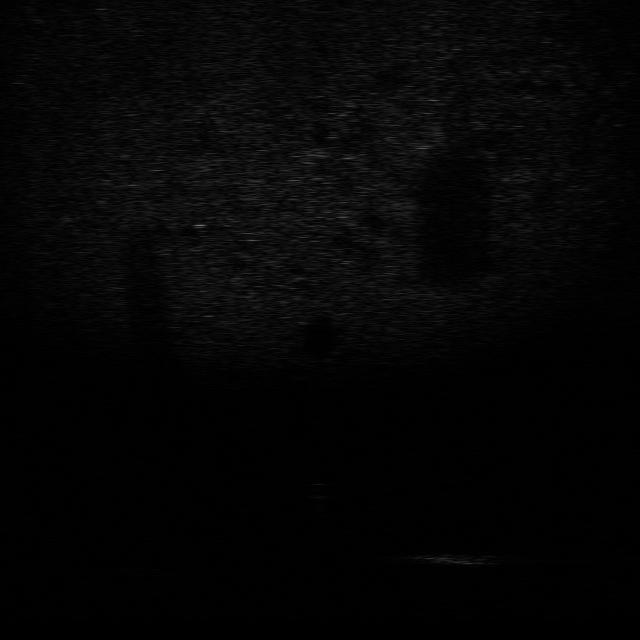ball: (299, 479, 340, 503)
metal bucket: (402, 547, 512, 569)
tyre: (118, 560, 180, 586)
